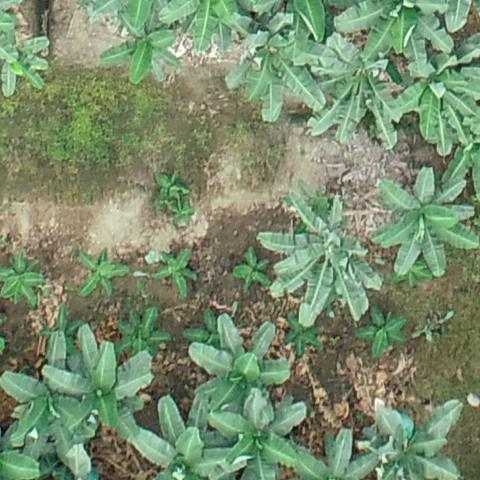Banana-plant: (253, 175, 378, 323), (305, 19, 415, 152), (45, 322, 159, 447), (0, 328, 106, 460), (369, 165, 480, 282), (221, 8, 332, 124), (179, 312, 293, 419), (344, 390, 466, 480), (385, 36, 480, 151), (129, 391, 251, 480), (207, 387, 310, 480), (97, 6, 184, 87), (0, 14, 52, 98), (104, 302, 172, 364), (350, 305, 417, 357), (37, 298, 88, 364), (71, 245, 131, 300), (0, 246, 49, 310), (185, 305, 233, 366), (144, 244, 202, 294), (275, 303, 325, 361), (229, 245, 271, 291)
